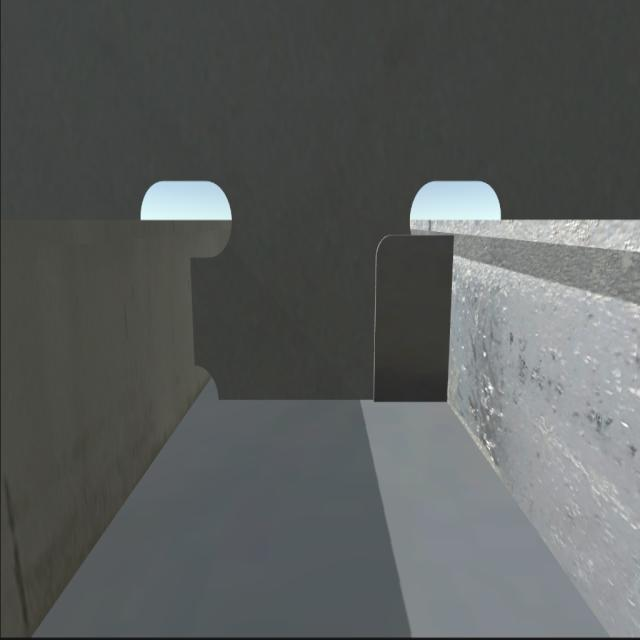fillet_hole: (188, 360, 220, 402)
fillet_yong_jeop_jang: (216, 390, 450, 408)
longi_yong_jeop_jang: (444, 226, 456, 410), (186, 256, 202, 361)
plate_CP05: (376, 232, 453, 409)
